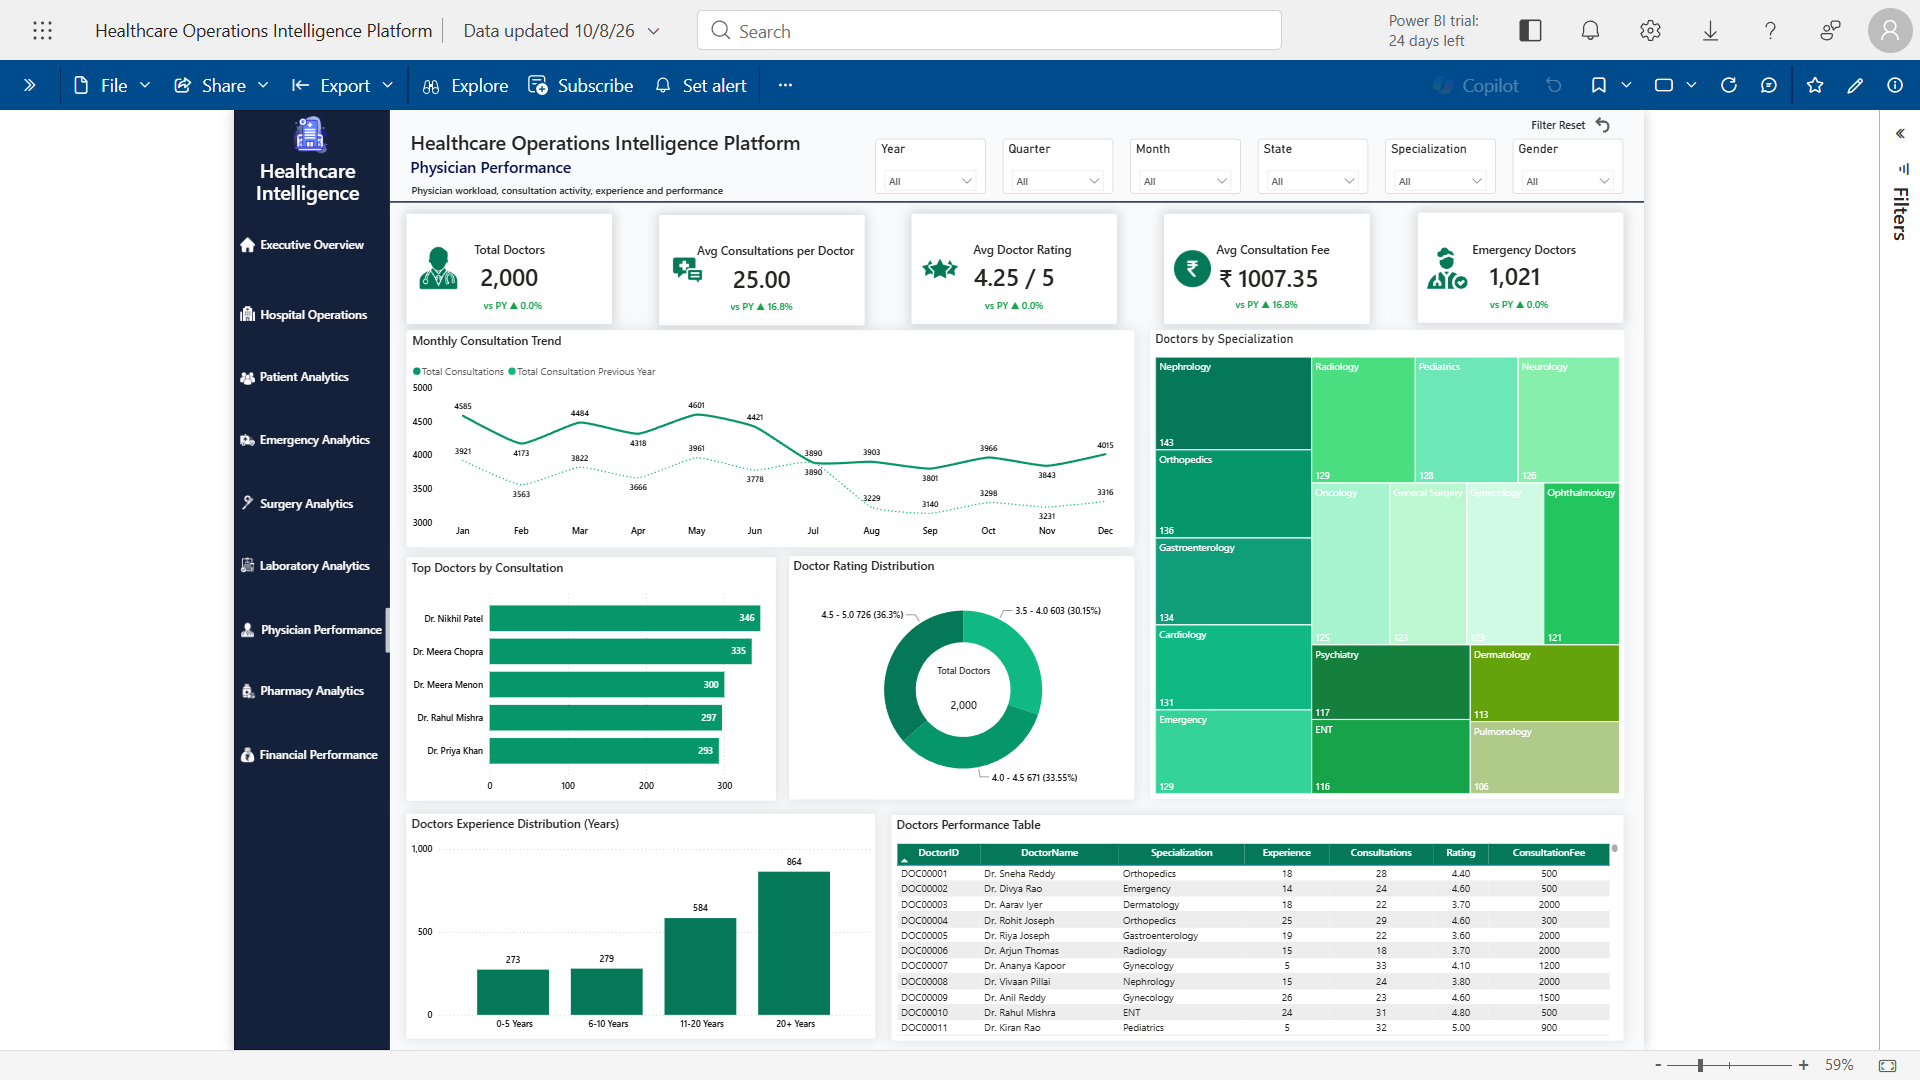

The page's visual inventory and layout, read from the dashboard file:
{"tool":"powerbi","page":{"name":"Physician Performance","canvas":[1920,1280],"ordinal":6},"visuals":[{"type":"shape","box":[0,0,212,1280],"z":0},{"type":"textbox","box":[3.3,59.1,200.8,46.2],"z":0,"group":"g1"},{"type":"cardVisual","title":"Total Revenue","fields":{"Data":["_Dax.Doctors Available for Emergency"]},"box":[1611.3,140.2,280.3,150],"z":0,"group":"g4"},{"type":"cardVisual","title":"Total Revenue","fields":{"Data":["_Dax.Avg Doctor Rating Display"]},"box":[922.9,140.6,280.3,150],"z":0,"group":"g2"},{"type":"cardVisual","title":"Total Revenue","fields":{"Data":["_Dax.Total Doctors"]},"box":[234.4,140.9,280.3,150],"z":0,"group":"g5"},{"type":"cardVisual","title":"Total Revenue","fields":{"Data":["_Dax.Average Consultation Fee"]},"box":[1267.1,141.2,280.3,150],"z":0,"group":"g3"},{"type":"cardVisual","title":"Total Revenue","fields":{"Data":["_Dax.Average Consultation Per Doctor"]},"box":[578.6,142.2,280.3,150],"z":0,"group":"g6"},{"type":"donutChart","title":"Doctor Rating Distribution","fields":{"Y":["_Dax.Performance Rating below 3.5","_Dax.Performance Rating below 4.0","_Dax.Performance Rating below 4.5","_Dax.Performance Rating below 5.0"]},"box":[755.7,607.1,470,331],"z":0,"group":"g7"},{"type":"actionButton","box":[1847.7,4.6,40,30],"z":1000},{"type":"textbox","box":[5,87.4,190.4,46.2],"z":1000,"group":"g1"},{"type":"image","box":[1280.8,180.5,50,71.5],"z":1000,"group":"g3"},{"type":"image","box":[592.3,181.5,50,71.5],"z":1000,"group":"g6"},{"type":"cardVisual","fields":{"Data":["_Dax.Total Doctors vs PY"]},"box":[305,235.4,150,56],"z":1000,"group":"g5"},{"type":"cardVisual","fields":{"Data":["_Dax.Avg Doctor Rating vs PY"]},"box":[987.6,235.7,150,56],"z":1000,"group":"g2"},{"type":"cardVisual","fields":{"Data":["_Dax.Emergency Doctors vs PY"]},"box":[1674.5,236.2,150,56],"z":1000,"group":"g4"},{"type":"cardVisual","title":"Total Doctors","fields":{"Data":["_Dax.Total Doctors"]},"box":[940.5,735.1,105,115.8],"z":1000,"group":"g7"},{"type":"textbox","box":[212,20,586,46],"z":2000},{"type":"image","box":[1623.2,177.7,56.7,76.7],"z":2000,"group":"g4"},{"type":"image","box":[247.3,177.8,60,73.3],"z":2000,"group":"g5"},{"type":"image","box":[936.6,179.9,50,71.5],"z":2000,"group":"g2"},{"type":"cardVisual","fields":{"Data":["_Dax.Average Consultation vs PY"]},"box":[1331.4,234.1,150,56],"z":2000,"group":"g3"},{"type":"cardVisual","fields":{"Data":["_Dax.Average Consultation vs PY"]},"box":[643.8,237.2,150,56],"z":2000,"group":"g6"},{"type":"textbox","box":[1757.7,4.6,90,31.5],"z":3000},{"type":"textbox","box":[984.5,173.2,179.3,33.3],"z":3000,"group":"g2"},{"type":"textbox","box":[302.4,173.8,144.3,34.3],"z":3000,"group":"g5"},{"type":"textbox","box":[1324.1,173.8,184.3,35.7],"z":3000,"group":"g3"},{"type":"textbox","box":[624.9,174.7,225.7,41.4],"z":3000,"group":"g6"},{"type":"textbox","box":[1664.4,175,184.2,37.5],"z":3000,"group":"g4"},{"type":"textbox","box":[236,95.4,447.7,30],"z":4000},{"type":"textbox","box":[17.1,167.1,178.6,31.4],"z":5000},{"type":"textbox","box":[24.2,261.7,169.5,31.6],"z":6000},{"type":"textbox","box":[234.3,58.6,229.3,46.7],"z":7000},{"type":"group","id":"g1","title":"Health Care","box":[3.3,59.1,200.8,74.6],"z":8000},{"type":"image","box":[79,9.1,50,50],"z":9000},{"type":"slicer","title":"Quarter","fields":{"Values":["Dim_Date.Quarter"]},"box":[1046.4,39.3,150,75],"z":10000},{"type":"slicer","title":"Month","fields":{"Values":["Dim_Date.MonthName"]},"box":[1220.1,39.3,150,75],"z":11000},{"type":"slicer","title":"State","fields":{"Values":["Dim_Patient.State"]},"box":[1393.8,39.3,150,75],"z":12000},{"type":"slicer","title":"Specialization","fields":{"Values":["Dim_Doctor.Specialization"]},"box":[1567.4,39.3,150,75],"z":13000},{"type":"shape","box":[212.1,119.3,1707.9,12],"z":14000},{"type":"textbox","box":[17,347.3,157.4,31.6],"z":15000},{"type":"textbox","box":[25.8,432.8,169.5,31.6],"z":16000},{"type":"textbox","box":[21,518.4,157.4,31.6],"z":17000},{"type":"textbox","box":[24,604,172.5,31.7],"z":18000},{"type":"textbox","box":[24.2,860.8,183.2,31.6],"z":19000},{"type":"textbox","box":[25,691.5,187,31.5],"z":20000},{"type":"textbox","box":[5,775.2,202.5,31.7],"z":21000},{"type":"group","id":"g2","title":"KPI 3","box":[922.9,140.6,280.3,151.1],"z":22000},{"type":"group","id":"g3","title":"KPI 4","box":[1267.1,141.2,280.3,150],"z":23000},{"type":"group","id":"g4","title":"KPI 5","box":[1611.3,140.2,280.3,152],"z":24000},{"type":"shape","box":[205.7,677.1,7.3,61.8],"z":25000},{"type":"image","box":[8.5,173,20,20],"z":26000},{"type":"image","box":[8.5,267.5,20,20],"z":27000},{"type":"image","box":[8.5,355,20,20],"z":28000},{"type":"image","box":[8.5,438,20,20],"z":29000},{"type":"image","box":[8.5,524,20,20],"z":30000},{"type":"image","box":[8,610,20,20],"z":31000},{"type":"image","box":[8,697.5,20,20],"z":32000},{"type":"image","box":[11,781,20,20],"z":33000},{"type":"image","box":[8,868,20,20],"z":34000},{"type":"slicer","title":"Gender","fields":{"Values":["Dim_Doctor.Gender"]},"box":[1741.1,39,150,75.6],"z":35000},{"type":"slicer","title":"Year","fields":{"Values":["Dim_Date.Year"]},"box":[872.7,39.3,150,75],"z":36000},{"type":"group","id":"g5","title":"KPI 3","box":[234.4,140.9,280.3,150.5],"z":37000},{"type":"group","id":"g6","title":"KPI 4","box":[578.6,142.2,280.3,151],"z":38000},{"type":"lineChart","title":"Monthly Consultation Trend","fields":{"Category":["Dim_Date.MonthShort"],"Y":["_Dax.Total Consultations","_Dax.Total Consultation Previous Year"]},"box":[234.3,300,991.4,295.7],"z":39000},{"type":"barChart","title":"Top Doctors by Consultation","fields":{"Category":["Dim_Doctor.DoctorName"],"Y":["_Dax.Total Consultations"]},"box":[234.3,610,502.9,331.4],"z":40000},{"type":"group","id":"g7","title":"Patient Distribution","box":[755.7,607.1,470,331.4],"z":41000},{"type":"tableEx","title":"Doctors Performance Table","fields":{"Values":["Dim_Doctor.DoctorID","Dim_Doctor.DoctorName","Dim_Doctor.Specialization","Dim_Doctor.YearsOfExperience","_Dax.Total Consultations","Dim_Doctor.PerformanceRating","Dim_Doctor.ConsultationFee"]},"box":[894.6,959.2,996.4,307.3],"z":42000},{"type":"treemap","title":"Doctors by Specialization","fields":{"Group":["Dim_Doctor.Specialization"],"Values":["_Dax.Total Doctors"]},"box":[1247.1,300,645.7,638.6],"z":43000},{"type":"columnChart","title":"Doctors Experience Distribution (Years)","fields":{"Category":["Dim_Doctor.Experience Distribution"],"Y":["_Dax.Total Doctors"]},"box":[235,958.8,638.8,306.2],"z":44000}]}

Visuals, with their boxes on the page's 1920x1280 design canvas (x1, y1, x2, y2). These are canvas units, not pixel positions in the 1920x1080 screenshot, which may show the page scaled, cropped or inside an application window:
shape: rect(0, 0, 212, 1280)
textbox: rect(3, 59, 204, 105)
"Total Revenue" cardVisual: rect(1611, 140, 1892, 290)
"Total Revenue" cardVisual: rect(923, 141, 1203, 291)
"Total Revenue" cardVisual: rect(234, 141, 515, 291)
"Total Revenue" cardVisual: rect(1267, 141, 1547, 291)
"Total Revenue" cardVisual: rect(579, 142, 859, 292)
"Doctor Rating Distribution" donutChart: rect(756, 607, 1226, 938)
actionButton: rect(1848, 5, 1888, 35)
textbox: rect(5, 87, 195, 134)
image: rect(1281, 180, 1331, 252)
image: rect(592, 182, 642, 253)
cardVisual - _Dax.Total Doctors vs PY: rect(305, 235, 455, 291)
cardVisual - _Dax.Avg Doctor Rating vs PY: rect(988, 236, 1138, 292)
cardVisual - _Dax.Emergency Doctors vs PY: rect(1674, 236, 1824, 292)
"Total Doctors" cardVisual: rect(940, 735, 1046, 851)
textbox: rect(212, 20, 798, 66)
image: rect(1623, 178, 1680, 254)
image: rect(247, 178, 307, 251)
image: rect(937, 180, 987, 251)
cardVisual - _Dax.Average Consultation vs PY: rect(1331, 234, 1481, 290)
cardVisual - _Dax.Average Consultation vs PY: rect(644, 237, 794, 293)
textbox: rect(1758, 5, 1848, 36)
textbox: rect(984, 173, 1164, 206)
textbox: rect(302, 174, 447, 208)
textbox: rect(1324, 174, 1508, 210)
textbox: rect(625, 175, 851, 216)
textbox: rect(1664, 175, 1849, 212)
textbox: rect(236, 95, 684, 125)
textbox: rect(17, 167, 196, 198)
textbox: rect(24, 262, 194, 293)
textbox: rect(234, 59, 464, 105)
"Health Care" group: rect(3, 59, 204, 134)
image: rect(79, 9, 129, 59)
"Quarter" slicer: rect(1046, 39, 1196, 114)
"Month" slicer: rect(1220, 39, 1370, 114)
"State" slicer: rect(1394, 39, 1544, 114)
"Specialization" slicer: rect(1567, 39, 1717, 114)
shape: rect(212, 119, 1920, 131)
textbox: rect(17, 347, 174, 379)
textbox: rect(26, 433, 195, 464)
textbox: rect(21, 518, 178, 550)
textbox: rect(24, 604, 196, 636)
textbox: rect(24, 861, 207, 892)
textbox: rect(25, 692, 212, 723)
textbox: rect(5, 775, 208, 807)
"KPI 3" group: rect(923, 141, 1203, 292)
"KPI 4" group: rect(1267, 141, 1547, 291)
"KPI 5" group: rect(1611, 140, 1892, 292)
shape: rect(206, 677, 213, 739)
image: rect(8, 173, 28, 193)
image: rect(8, 268, 28, 288)
image: rect(8, 355, 28, 375)
image: rect(8, 438, 28, 458)
image: rect(8, 524, 28, 544)
image: rect(8, 610, 28, 630)
image: rect(8, 698, 28, 718)
image: rect(11, 781, 31, 801)
image: rect(8, 868, 28, 888)
"Gender" slicer: rect(1741, 39, 1891, 115)
"Year" slicer: rect(873, 39, 1023, 114)
"KPI 3" group: rect(234, 141, 515, 291)
"KPI 4" group: rect(579, 142, 859, 293)
"Monthly Consultation Trend" lineChart: rect(234, 300, 1226, 596)
"Top Doctors by Consultation" barChart: rect(234, 610, 737, 941)
"Patient Distribution" group: rect(756, 607, 1226, 938)
"Doctors Performance Table" tableEx: rect(895, 959, 1891, 1266)
"Doctors by Specialization" treemap: rect(1247, 300, 1893, 939)
"Doctors Experience Distribution (Years)" columnChart: rect(235, 959, 874, 1265)
